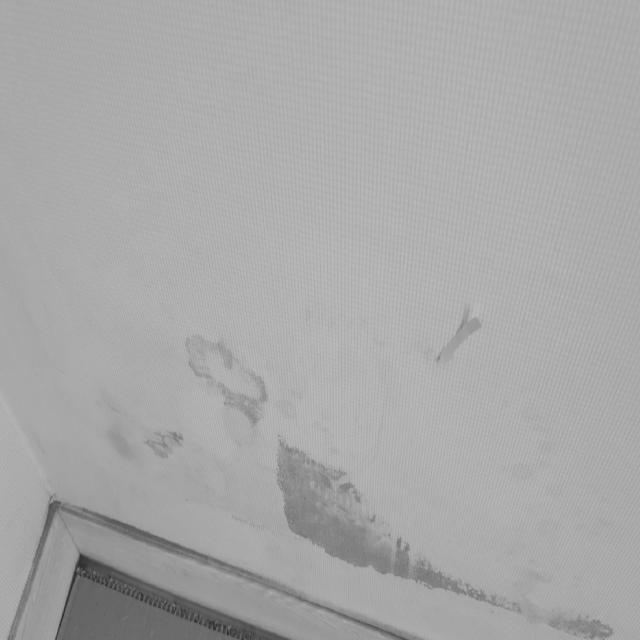stain marks: (99, 325, 640, 639)
